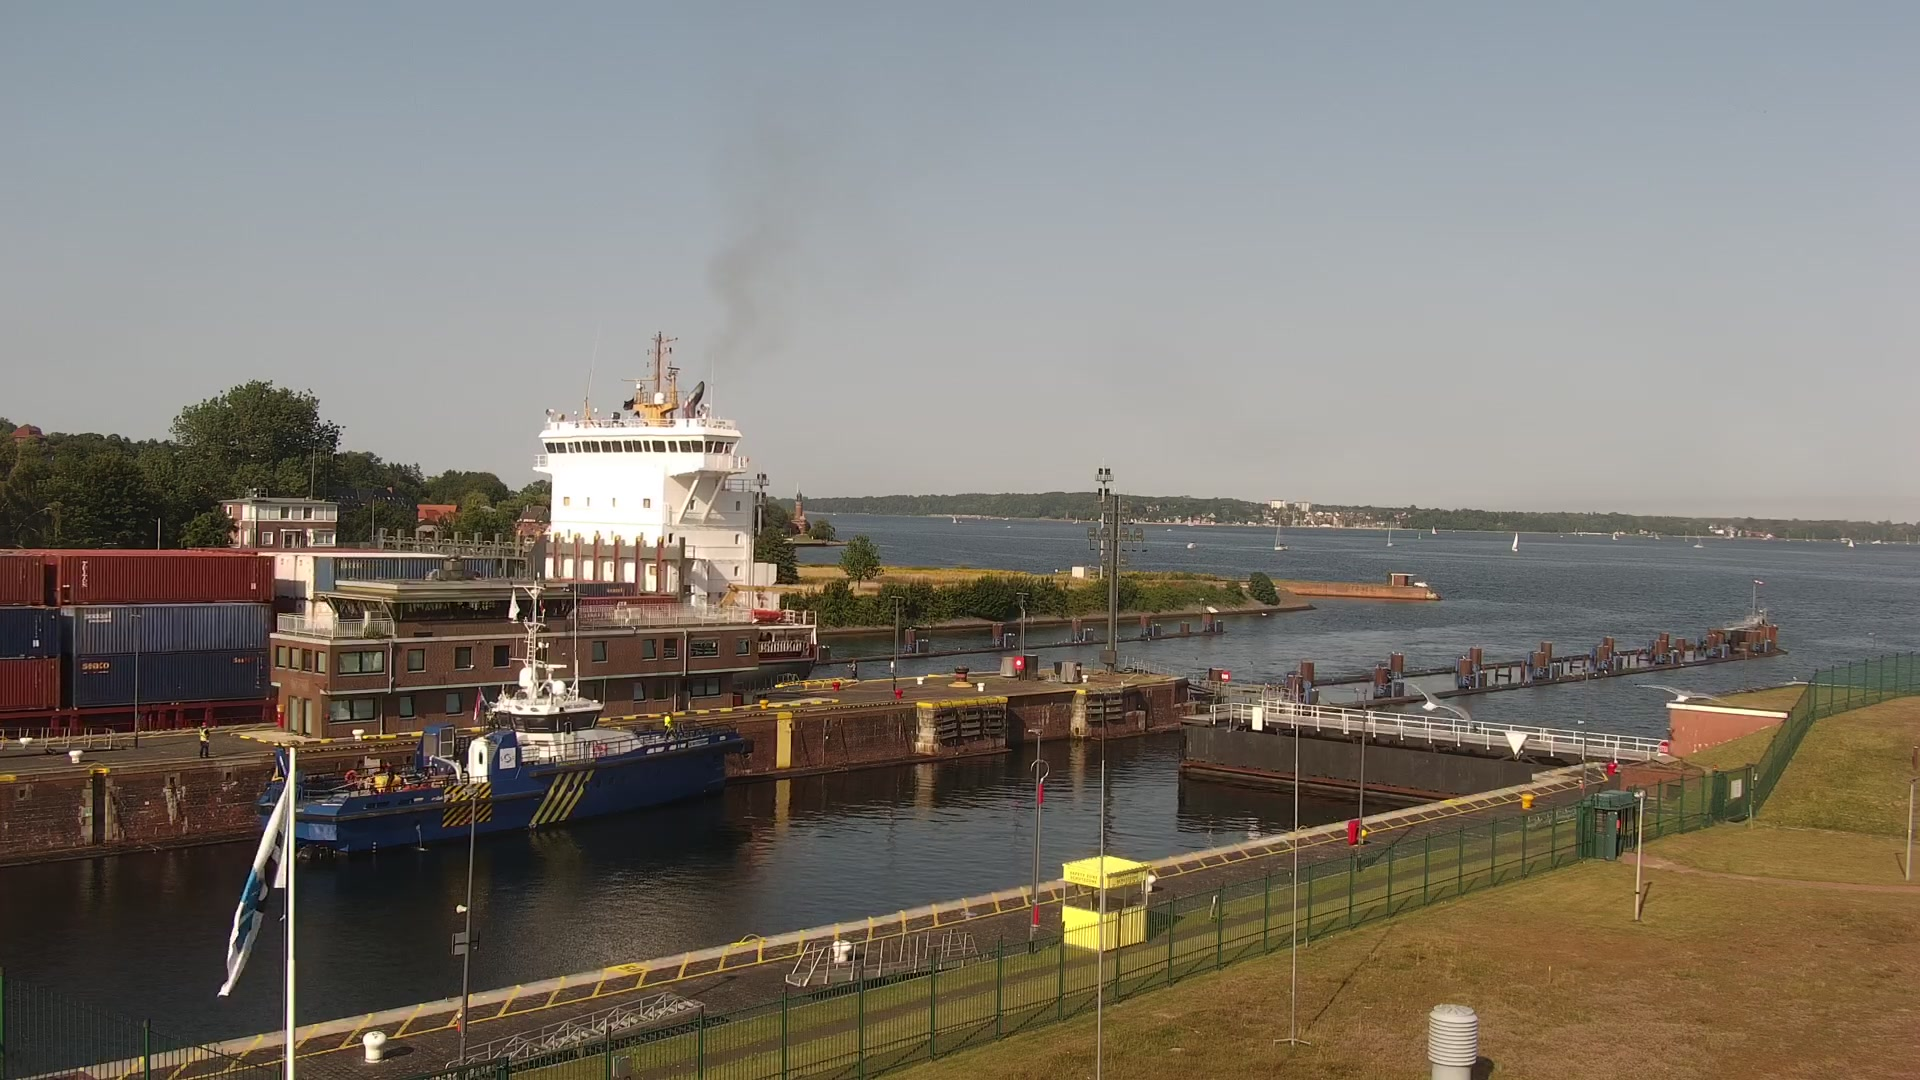human: (197, 720, 211, 759), (664, 711, 676, 739), (847, 657, 859, 679)
sea: (5, 323, 823, 722), (263, 566, 756, 865), (1271, 513, 1290, 550), (1385, 519, 1394, 547), (1511, 531, 1519, 552), (1692, 537, 1704, 548), (1846, 538, 1855, 548), (1186, 540, 1198, 549), (1071, 515, 1080, 525), (1430, 525, 1438, 535), (1611, 532, 1618, 541), (1653, 531, 1660, 540), (951, 515, 958, 523)
